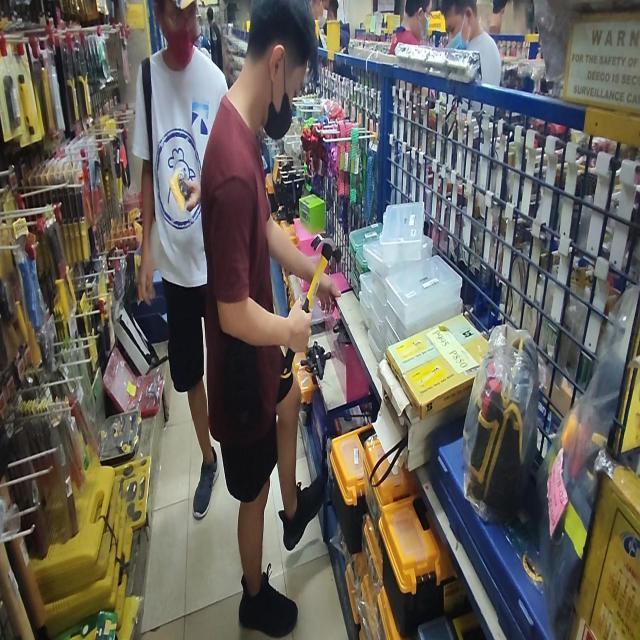hammer: (280, 234, 341, 378)
